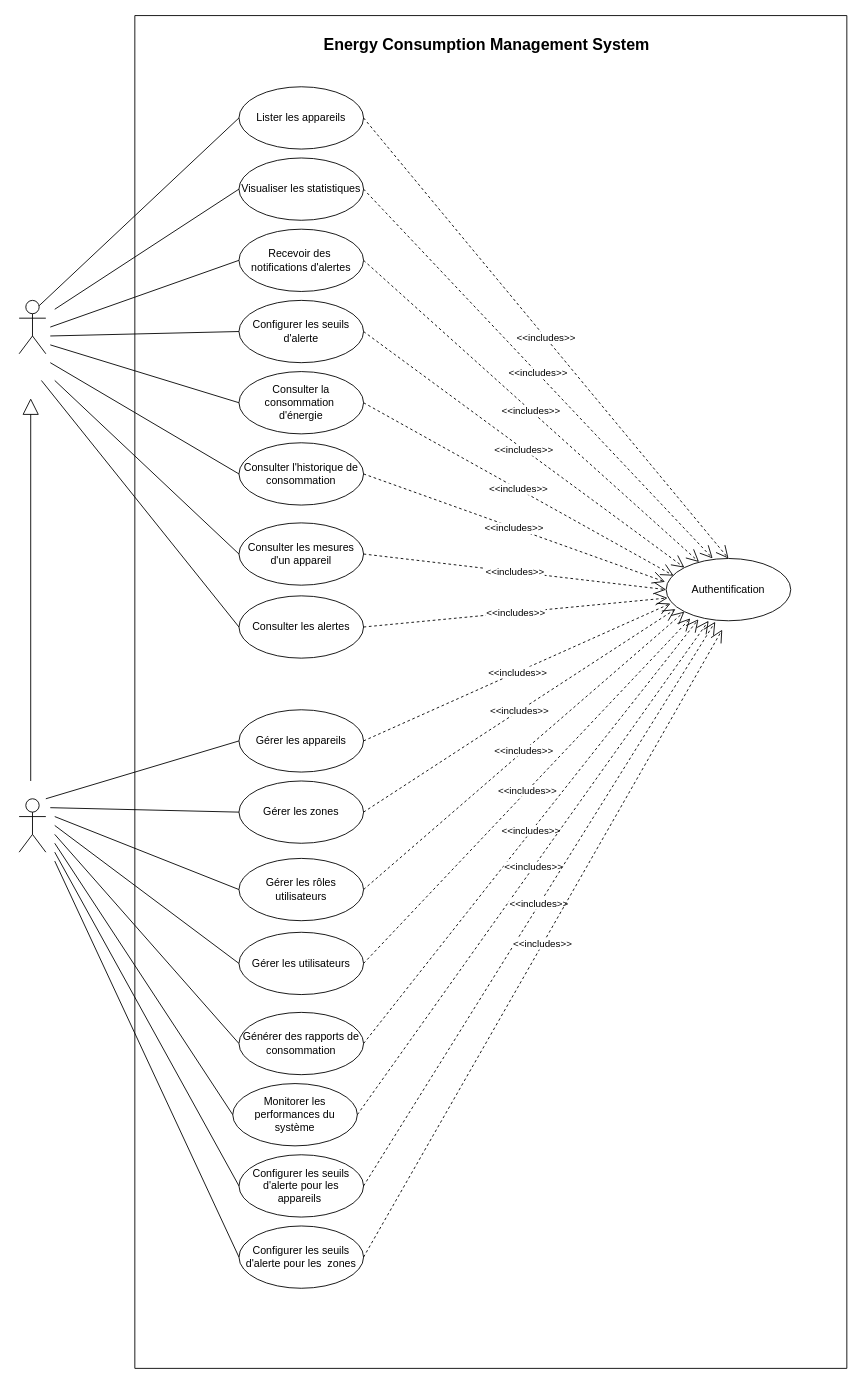
Image size: 862x1384. Some labels were removed from this diagram. Here are the shapes that lost their labels. From the top down, the centre of each, then its label:
the point at 32,326: User
the point at 32,825: Admin
